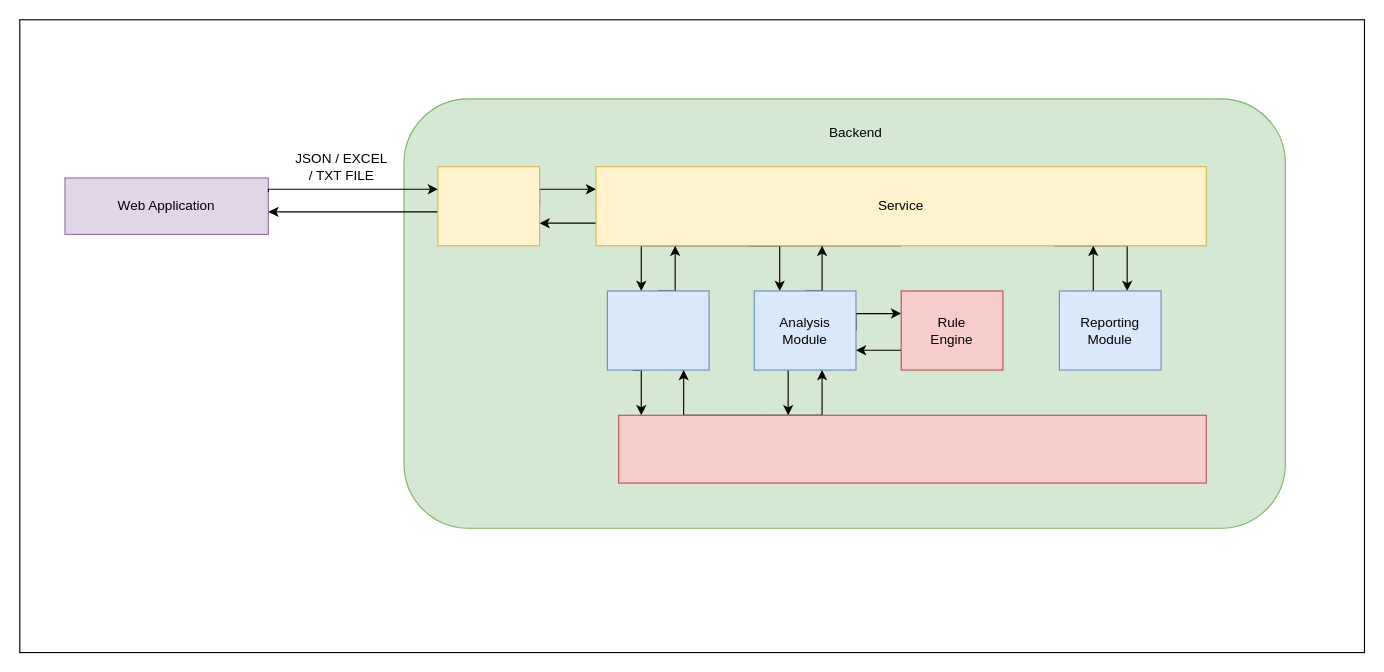
Image size: 1384x672. Some labels were removed from this diagram. Here are the shapes that lost their labels. From the top down, the centre of each, then its label:
point 488,206: Contoller
point 657,330: Parsing Module
point 912,448: Zemberek NLP
